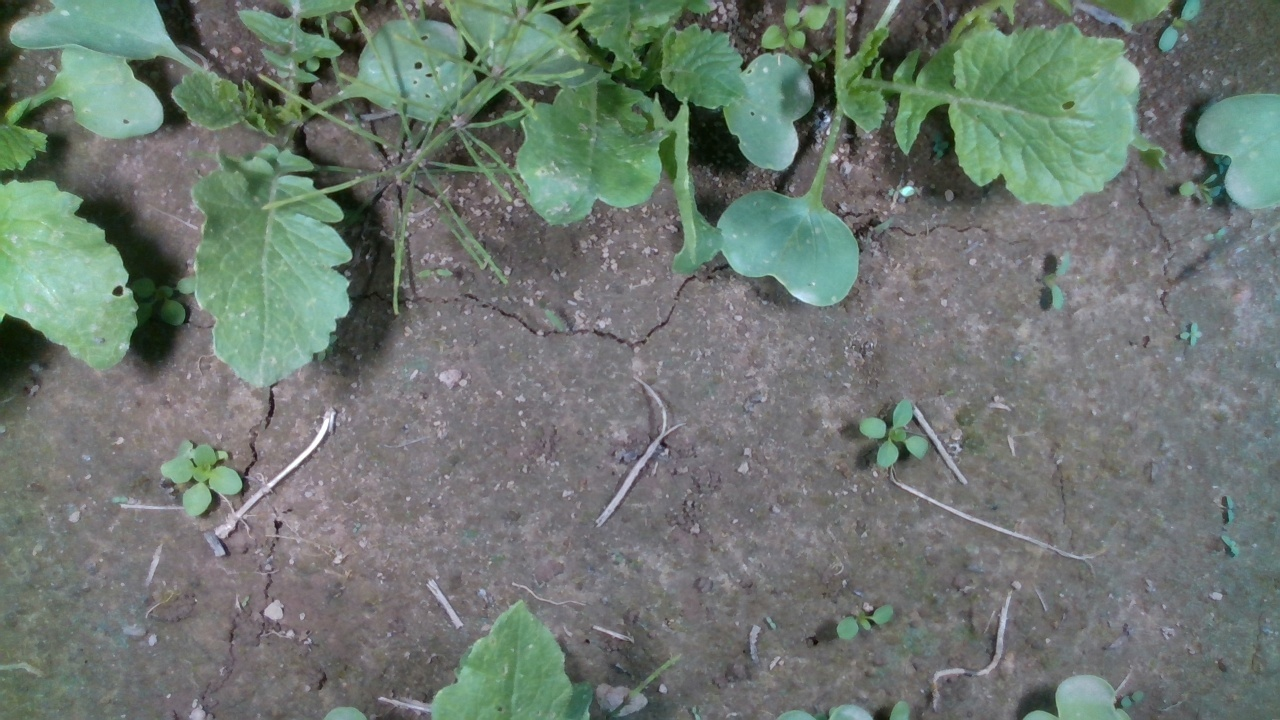weed: (413, 266, 455, 279)
